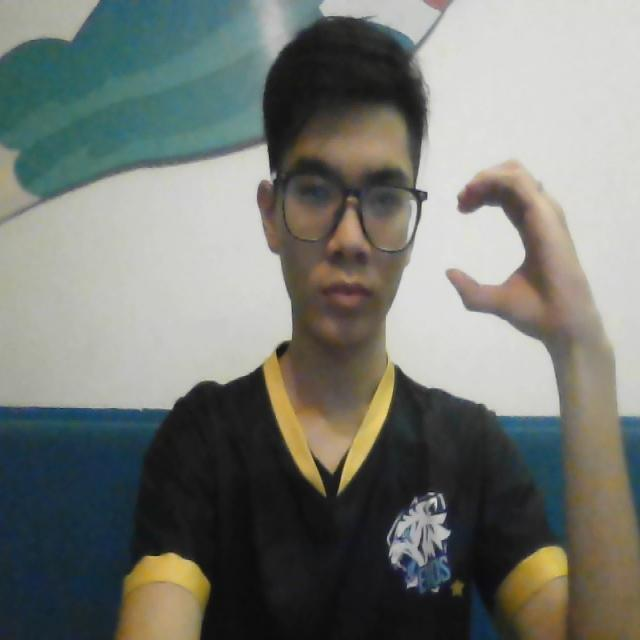C: (438, 150, 583, 339)
